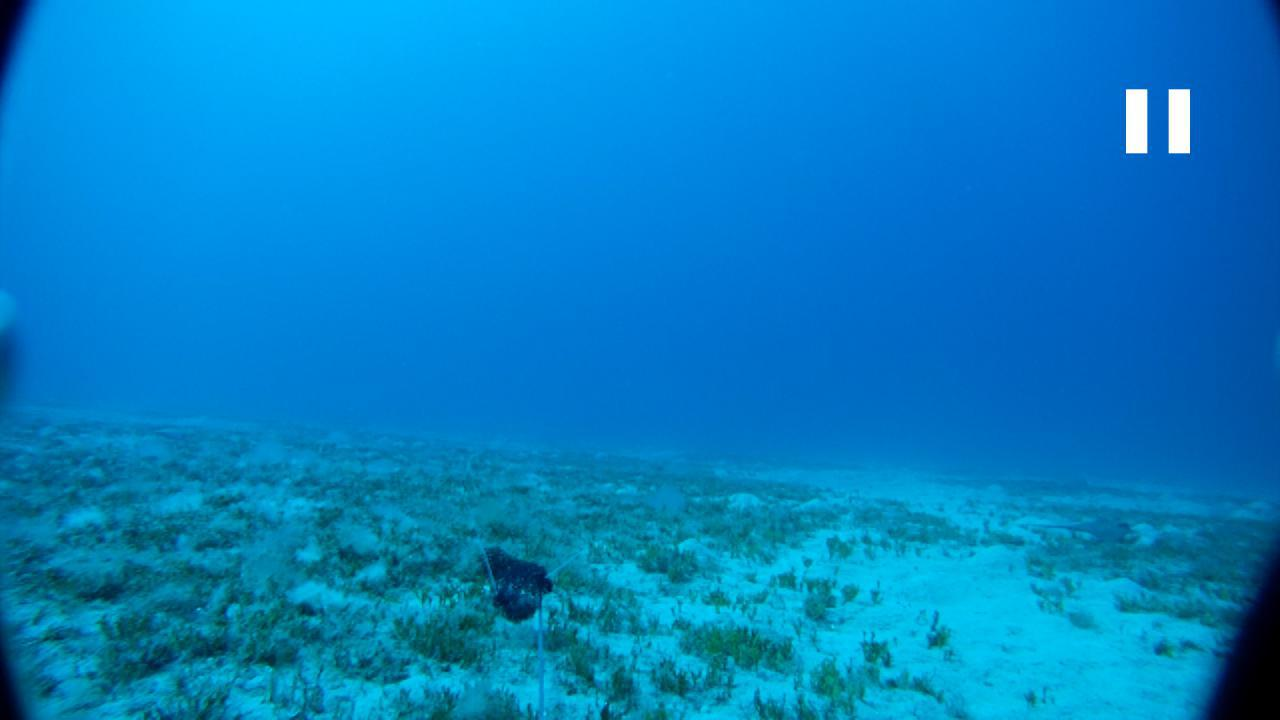dasyatis: (1033, 516, 1140, 543)
